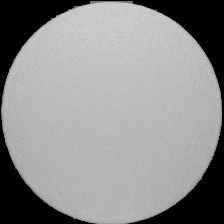67296-0389: (0, 0, 224, 224)
